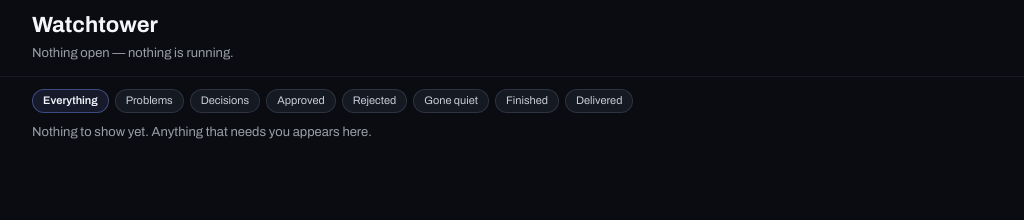
Test: the Approved and Rejected filters › a failed read of the record is a banner, never an empty list
Click the button with test id "watchtower-kind" showing "Approved": (301,100) [266,88,336,112]
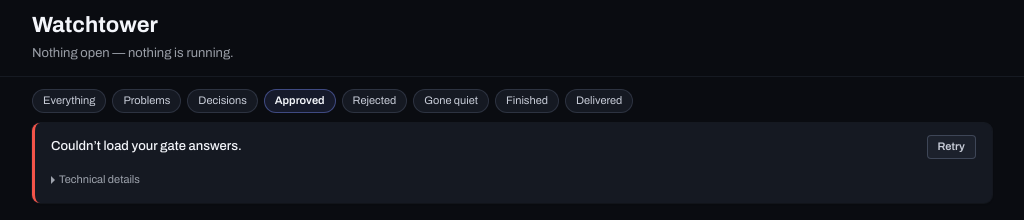
Expected: the message "Couldn’t load your gate answers. Retry Technical details" is shown, [32,122,992,202]
Expected: the element with test id "watchtower-empty" is gone
